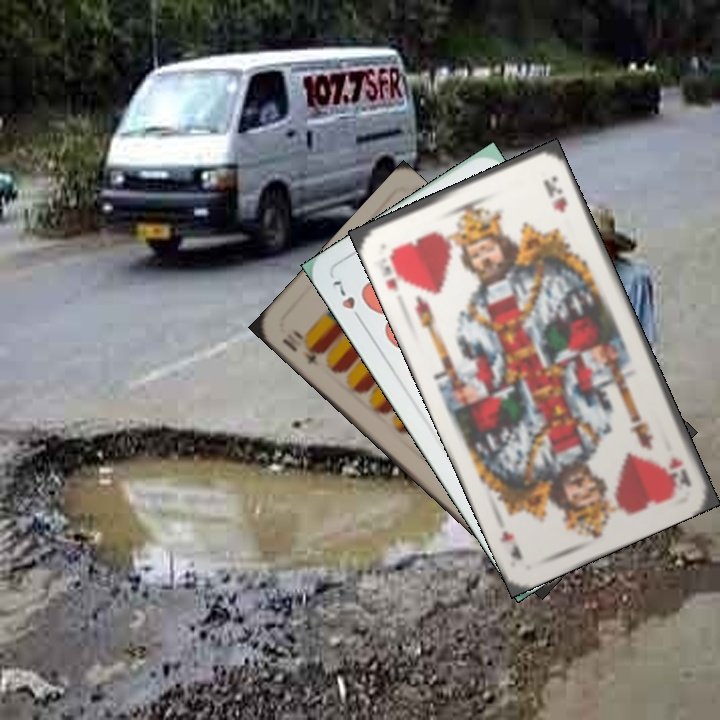E10: (289, 326, 325, 369)
H7: (328, 276, 367, 327)
HK: (380, 245, 408, 295), (664, 453, 694, 490)
